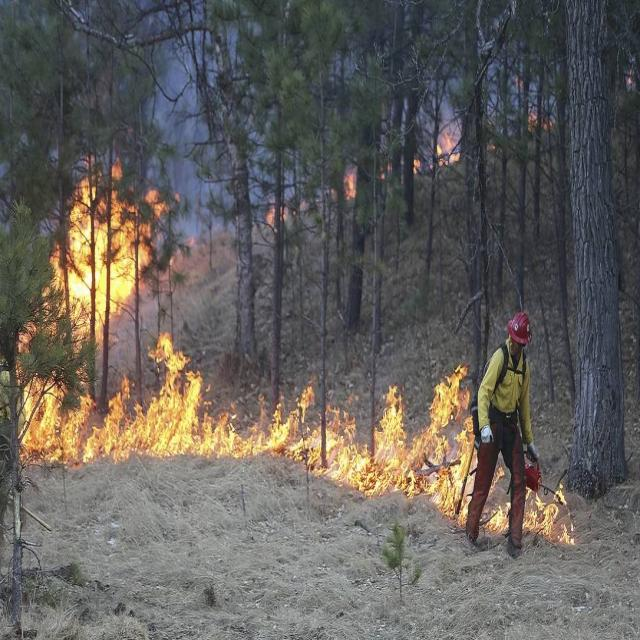fire: (27, 370, 205, 463), (378, 367, 472, 519), (296, 414, 368, 497), (214, 403, 284, 460), (526, 490, 576, 547), (488, 502, 508, 530)
